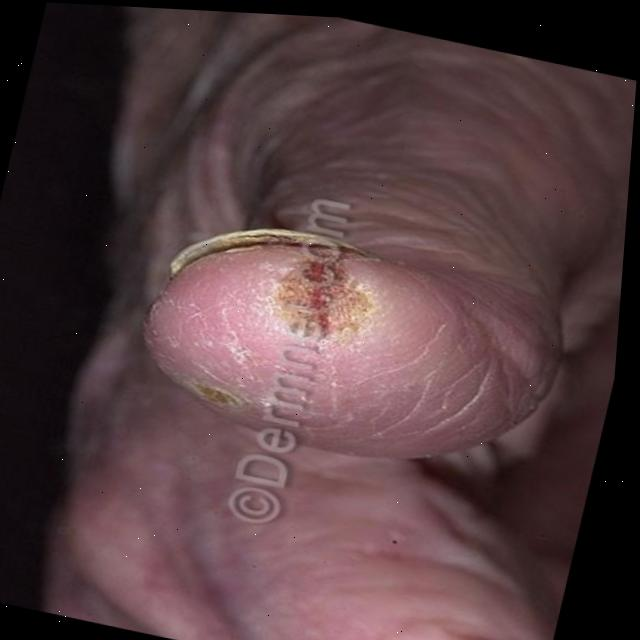Eczema: (279, 261, 375, 353)
